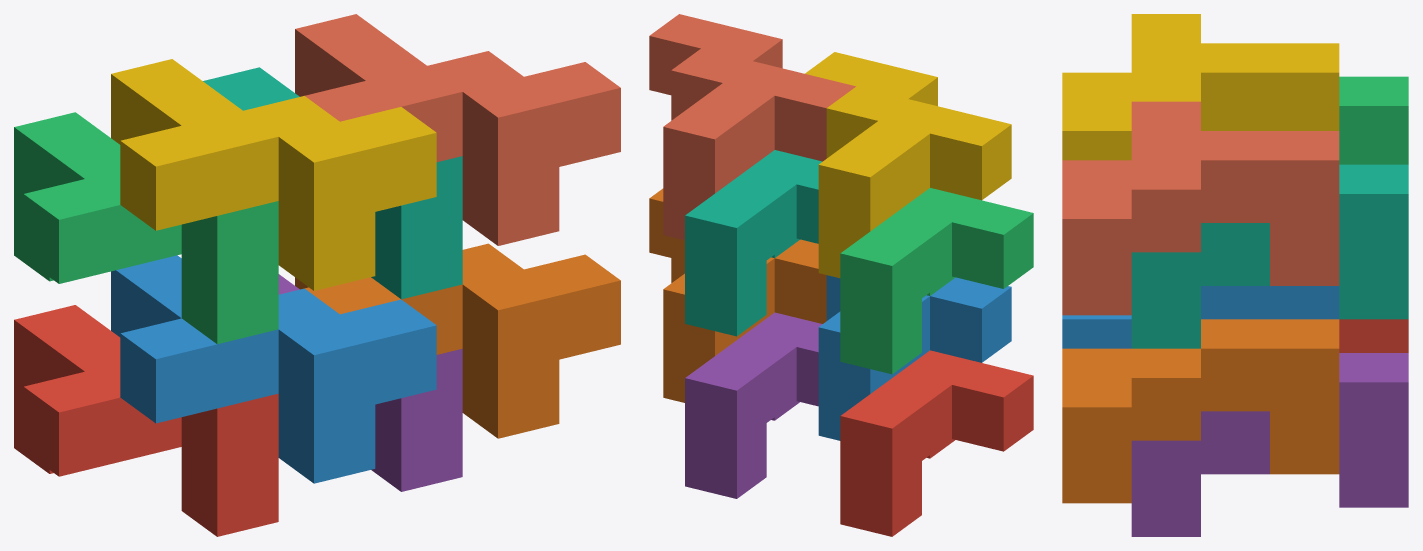
The model's file is tiling.obj.
3 renders of one model, left to right at view 1: azimuth 30°, elevation 25°; view 2: azimuth 150°, elevation 25°; view 3: azimuth 270°, elevation 25°, orthographic. The views are drawn at different scales.
Parts seen in each view (by area): view 1: copy_1_domain_4, copy_1_domain_2, copy_1_domain_8, copy_1_domain_1, copy_1_domain_3, copy_1_domain_6, copy_1_domain_7, copy_1_domain_5; view 2: copy_1_domain_4, copy_1_domain_8, copy_1_domain_1, copy_1_domain_3, copy_1_domain_5, copy_1_domain_7, copy_1_domain_2, copy_1_domain_6; view 3: copy_1_domain_8, copy_1_domain_6, copy_1_domain_4, copy_1_domain_7, copy_1_domain_5, copy_1_domain_2, copy_1_domain_3, copy_1_domain_1.
Boxes of the visible parts, x1,y1,x2,y2 form: copy_1_domain_4: (111, 59, 436, 290); copy_1_domain_2: (111, 255, 436, 483); copy_1_domain_8: (295, 14, 620, 245); copy_1_domain_1: (14, 305, 278, 536); copy_1_domain_3: (14, 112, 278, 344); copy_1_domain_6: (295, 243, 620, 438); copy_1_domain_7: (203, 67, 462, 299); copy_1_domain_5: (278, 274, 462, 491); copy_1_domain_4: (805, 52, 1011, 278); copy_1_domain_8: (649, 14, 855, 240); copy_1_domain_1: (840, 350, 1033, 536); copy_1_domain_3: (840, 188, 1033, 374); copy_1_domain_5: (685, 312, 822, 498); copy_1_domain_7: (685, 150, 822, 336); copy_1_domain_2: (818, 275, 1011, 440); copy_1_domain_6: (649, 188, 826, 402); copy_1_domain_8: (1062, 101, 1339, 315); copy_1_domain_6: (1062, 319, 1339, 503); copy_1_domain_4: (1062, 14, 1339, 160); copy_1_domain_7: (1131, 164, 1408, 348); copy_1_domain_5: (1131, 353, 1408, 536); copy_1_domain_2: (1062, 286, 1339, 348); copy_1_domain_3: (1339, 76, 1408, 164); copy_1_domain_1: (1339, 319, 1408, 352).
Bounding box in the file's own units: 8 × 6 × 5.
